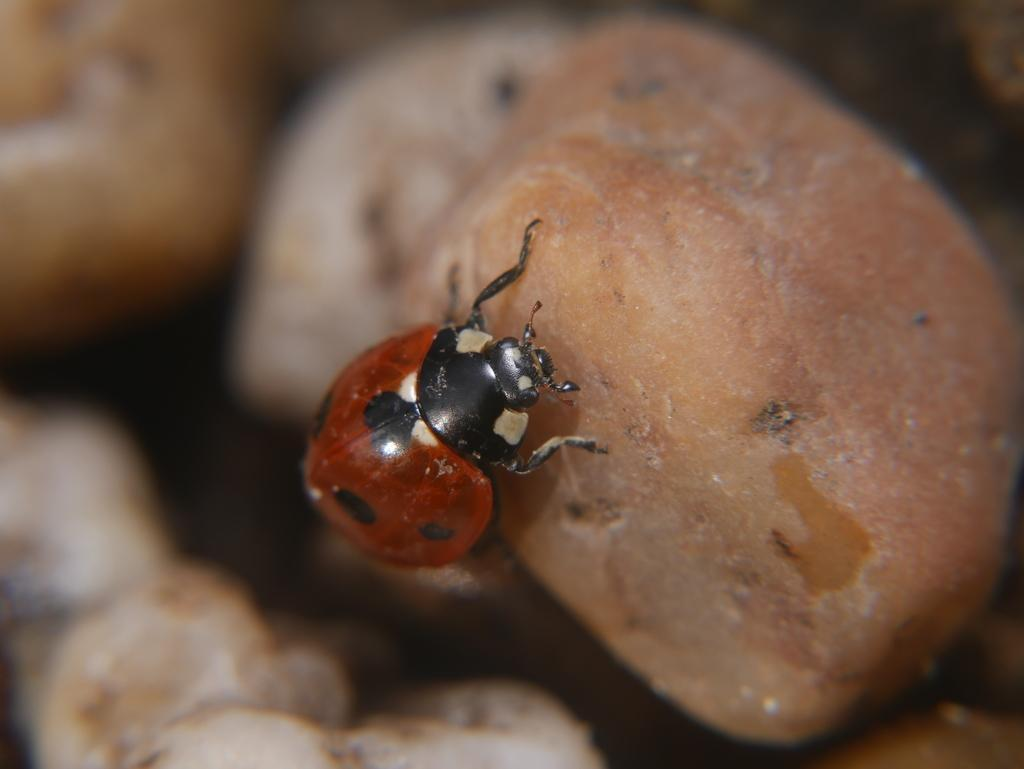ladybug: (301, 215, 615, 569)
